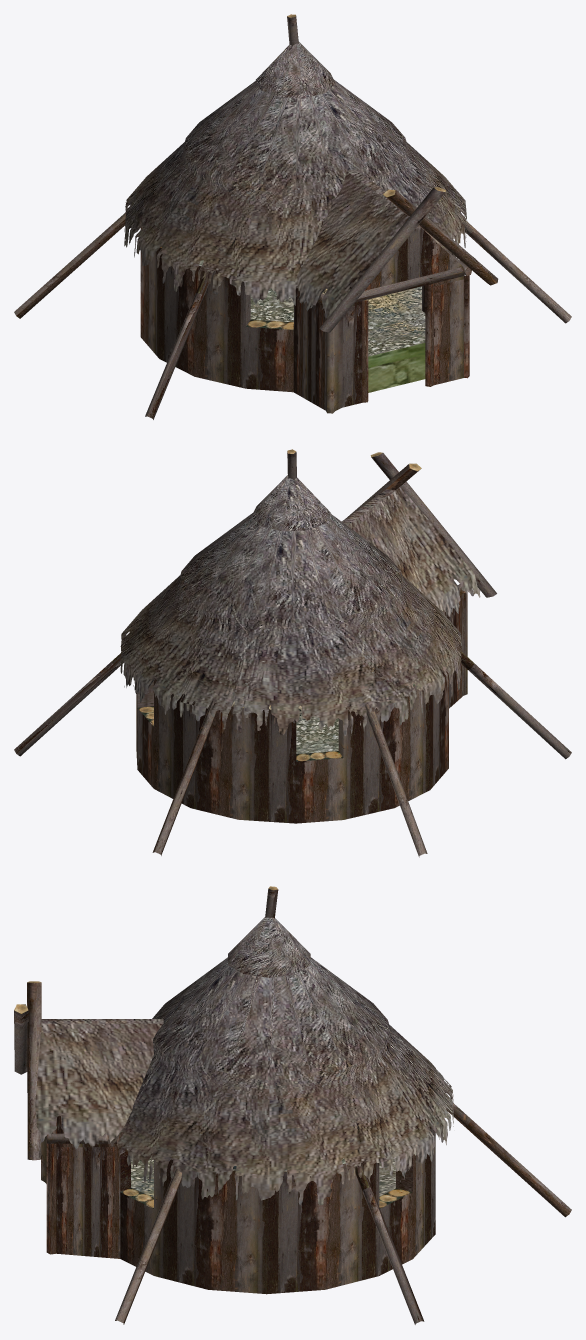
The model's file is building_hovel3.glb.
3 renders of one model, top to bottom at view 1: azimuth 30°, elevation 25°; view 2: azimuth 150°, elevation 25°; view 3: azimuth 270°, elevation 25°, orthographic. The views are drawn at different scales.
Parts seen in each view (by area): view 1: building_hovel3; view 2: building_hovel3; view 3: building_hovel3.
Boxes of the visible parts, left/top/right/bottom form: building_hovel3: left=14, top=14, right=571, bottom=419; building_hovel3: left=14, top=449, right=571, bottom=857; building_hovel3: left=14, top=886, right=571, bottom=1324.
Size of the model in its own units: 6.93 by 4.84 by 7.35.
Materials: 6 (6 with a texture image).
